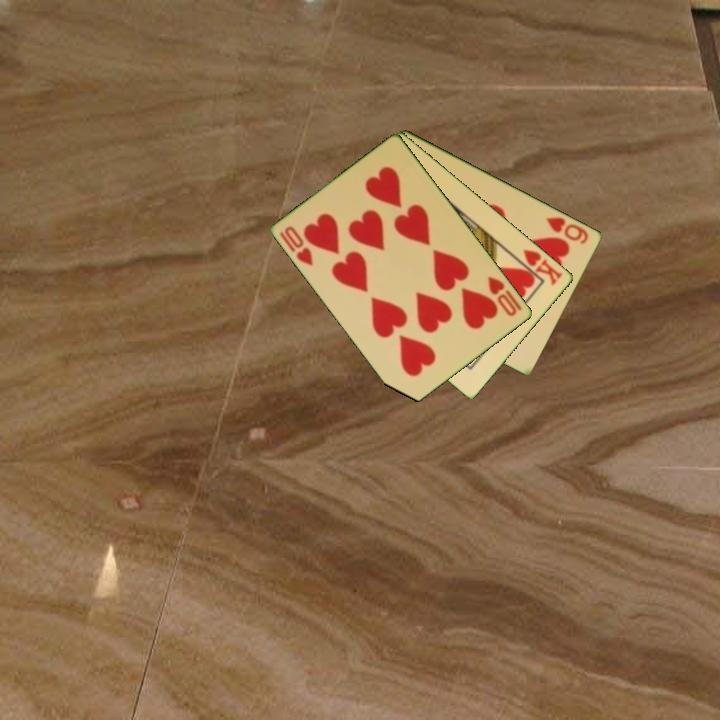10h: (276, 223, 316, 269), (484, 272, 520, 320)
6h: (543, 213, 592, 247)
Kh: (512, 246, 566, 289)
